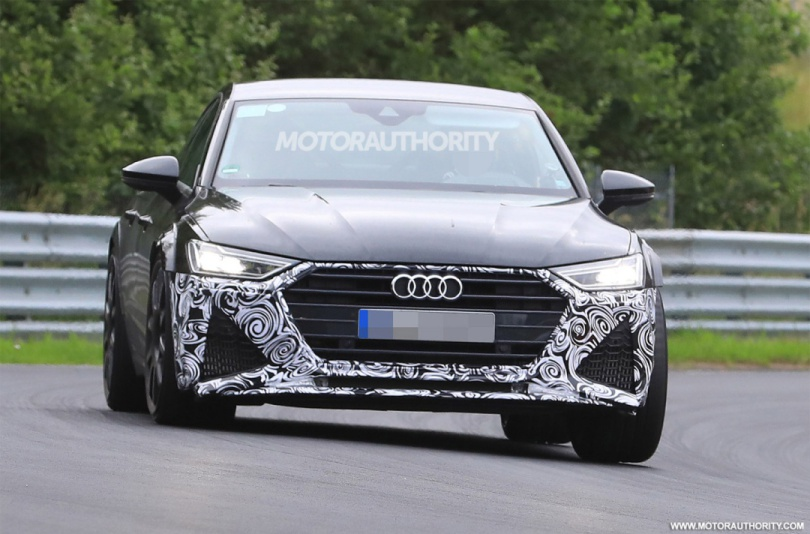audi: (379, 269, 469, 304)
